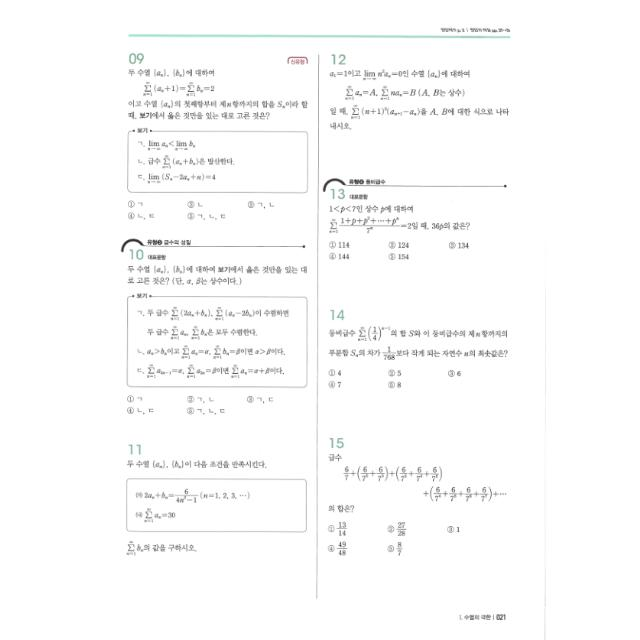multiple: (114, 232, 310, 420), (117, 42, 313, 228), (320, 428, 514, 566), (320, 166, 514, 274), (321, 301, 517, 403)
short: (115, 435, 312, 561), (322, 43, 516, 137)
